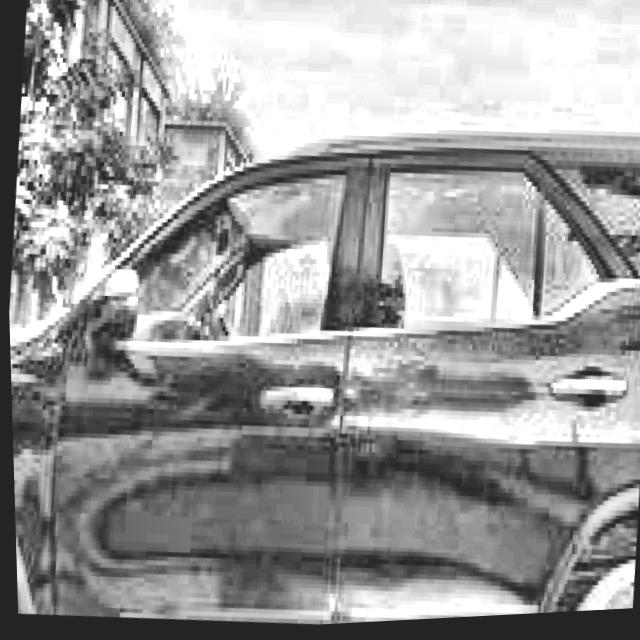light_vehicle: (3, 84, 640, 640)
